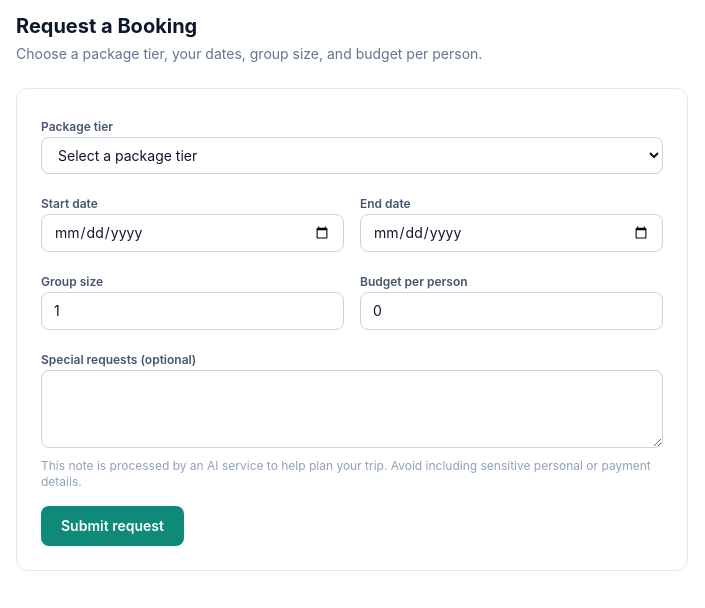
Scenario: BookingRequestPage › renders backend field errors next to the corresponding inputs
Select "Cultural Triangle Explorer — Normal ($250.00/person)" in the dropdown labelled "Package tier": (352, 156) [41,137,663,174]
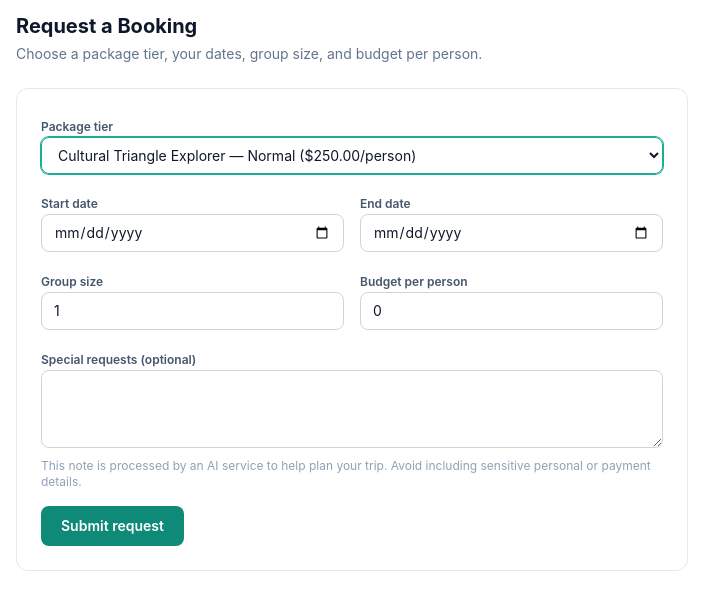
In the date field labelled "Start date": (192, 233) [41,214,344,252], type "2030-01-01"
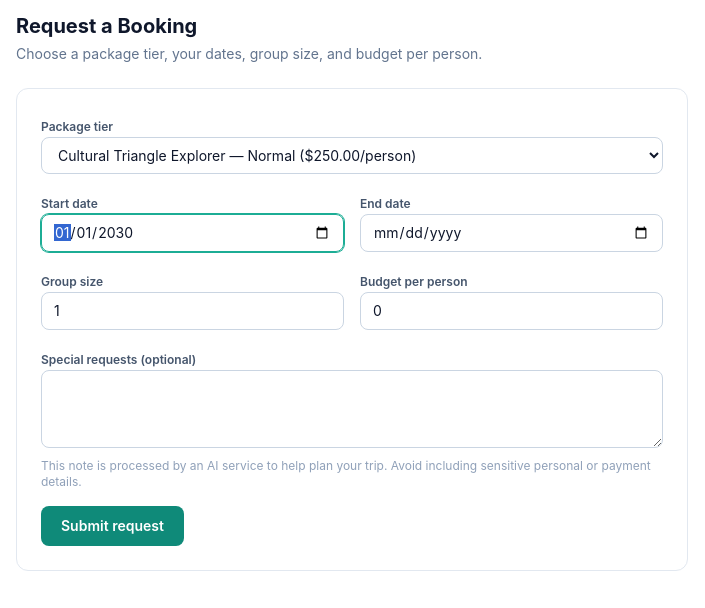
In the date field labelled "End date": (512, 233) [360,214,663,252], type "2030-01-05"
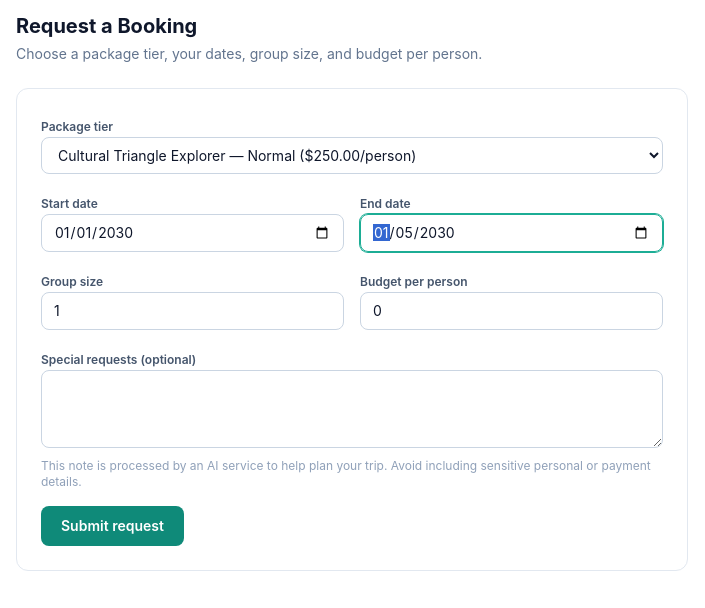
Replace the text in the number field labelled "Group size" with "2": (192, 311) [41,292,344,330]
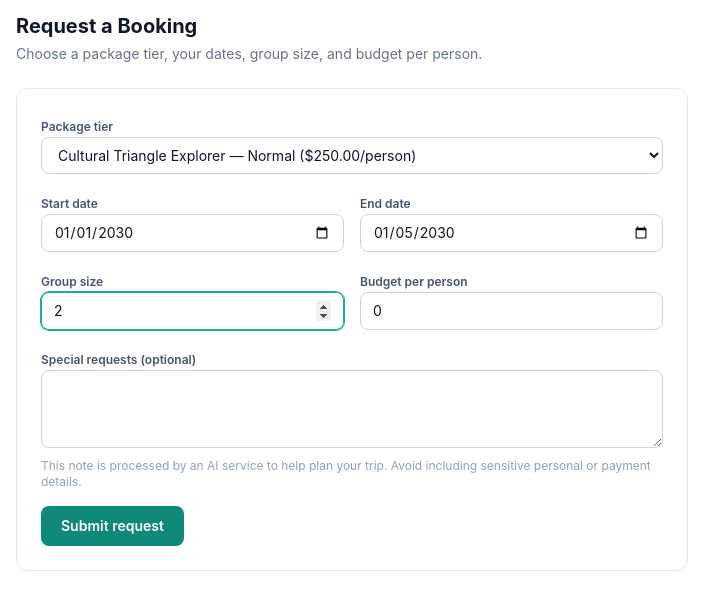
Replace the text in the number field labelled "Budget per person" with "300": (512, 311) [360,292,663,330]
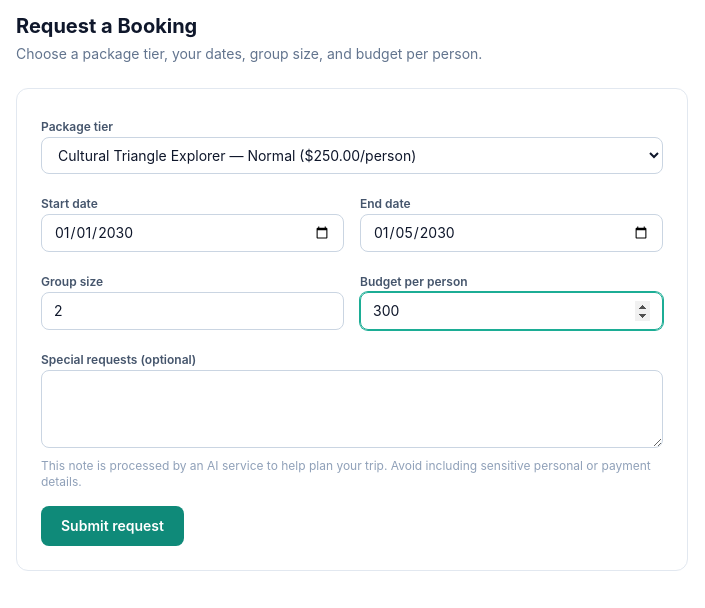
Click the button "Submit request": click(112, 526) [41,506,184,546]
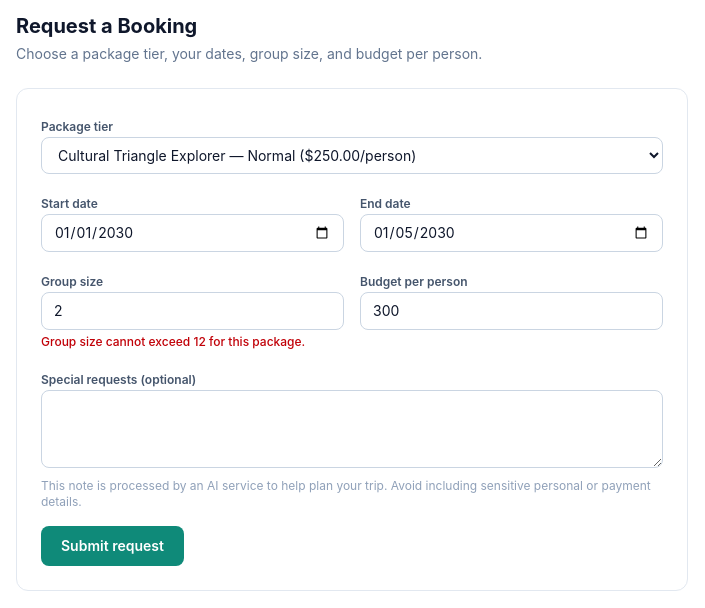
Result: the text "Group size cannot exceed 12 for this package." is shown at [41,334,344,350]
